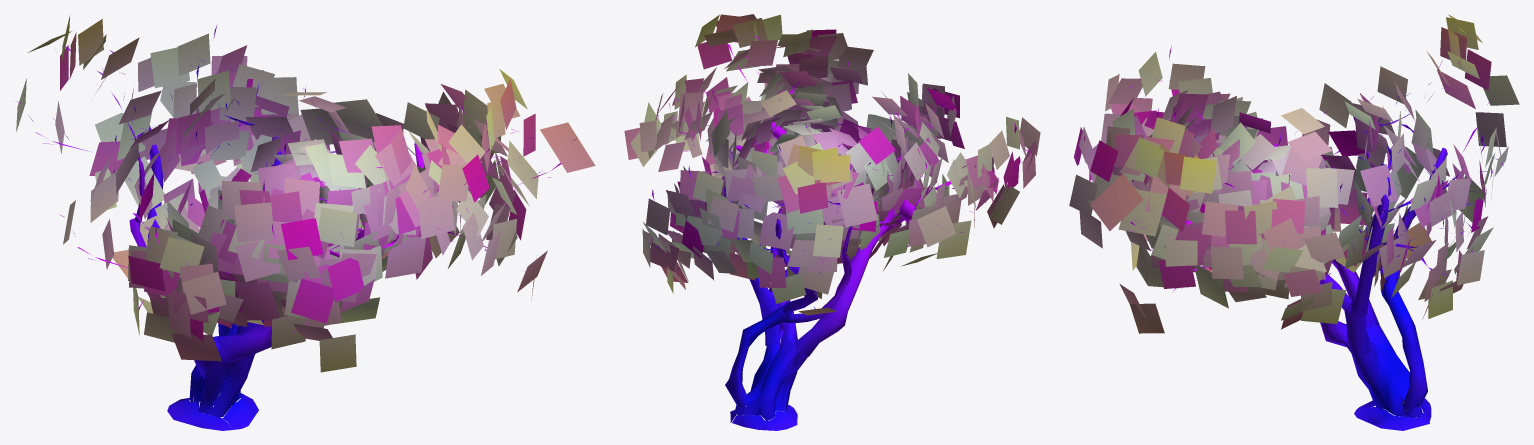
Rendered from broadleaf_b_LODs.glb.
3 renders of one model, left to right at view 1: azimuth 30°, elevation 25°; view 2: azimuth 150°, elevation 25°; view 3: azimuth 270°, elevation 25°, orthographic. The views are drawn at different scales.
Visible parts, largest first — view 1: broadleaf_b_LOD0; view 2: broadleaf_b_LOD0; view 3: broadleaf_b_LOD0.
Part boxes in pixels (x1,y1,x2,y2): broadleaf_b_LOD0: (16,14,595,430); broadleaf_b_LOD0: (624,14,1040,430); broadleaf_b_LOD0: (1069,14,1519,430).
Size of what is drawn, in the model's own units: 12.65 by 11.13 by 13.12.
